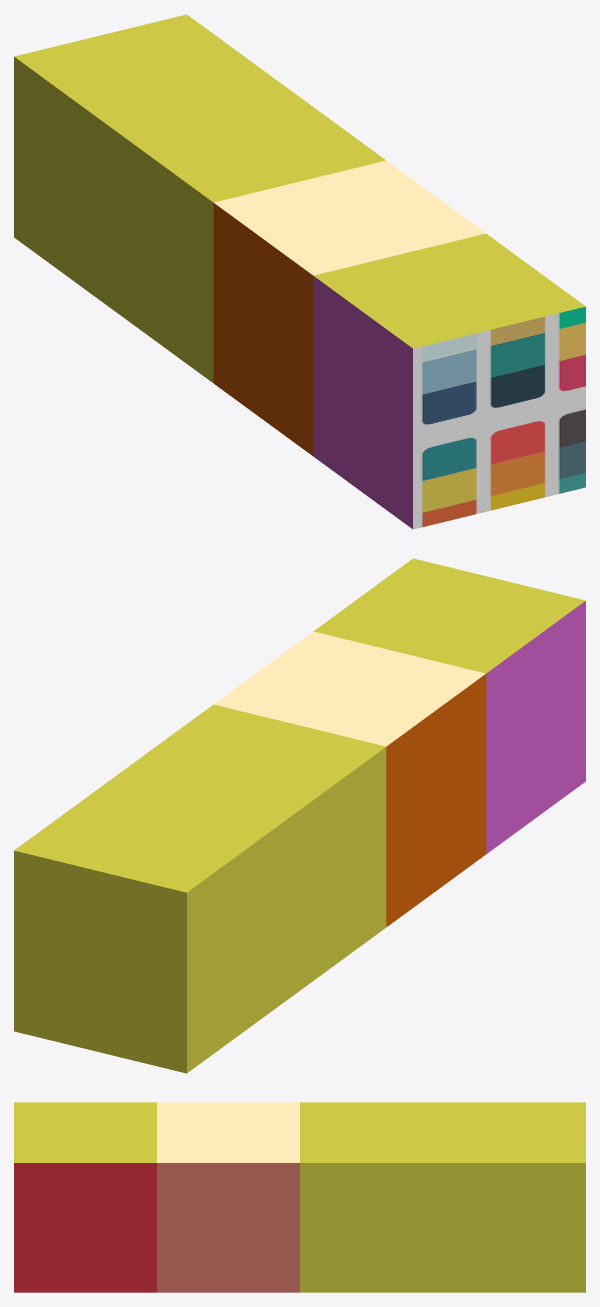
File: DefaultMaterıals.fbx
The picture shows the model from 3 angles, top to bottom: view 1: azimuth 30°, elevation 25°; view 2: azimuth 150°, elevation 25°; view 3: azimuth 270°, elevation 25°; orthographic projection. The views are drawn at different scales.
Visible parts, largest first — view 1: DefaultMaterıals; view 2: DefaultMaterıals; view 3: DefaultMaterıals.
Boxes of the visible parts, box(x1,y1,x2,y2) form: DefaultMaterıals: box(14, 14, 585, 529); DefaultMaterıals: box(14, 558, 585, 1073); DefaultMaterıals: box(14, 1102, 585, 1292).
Size of the model in its own units: 200 by 200 by 800.
9 materials, 1 textured.
